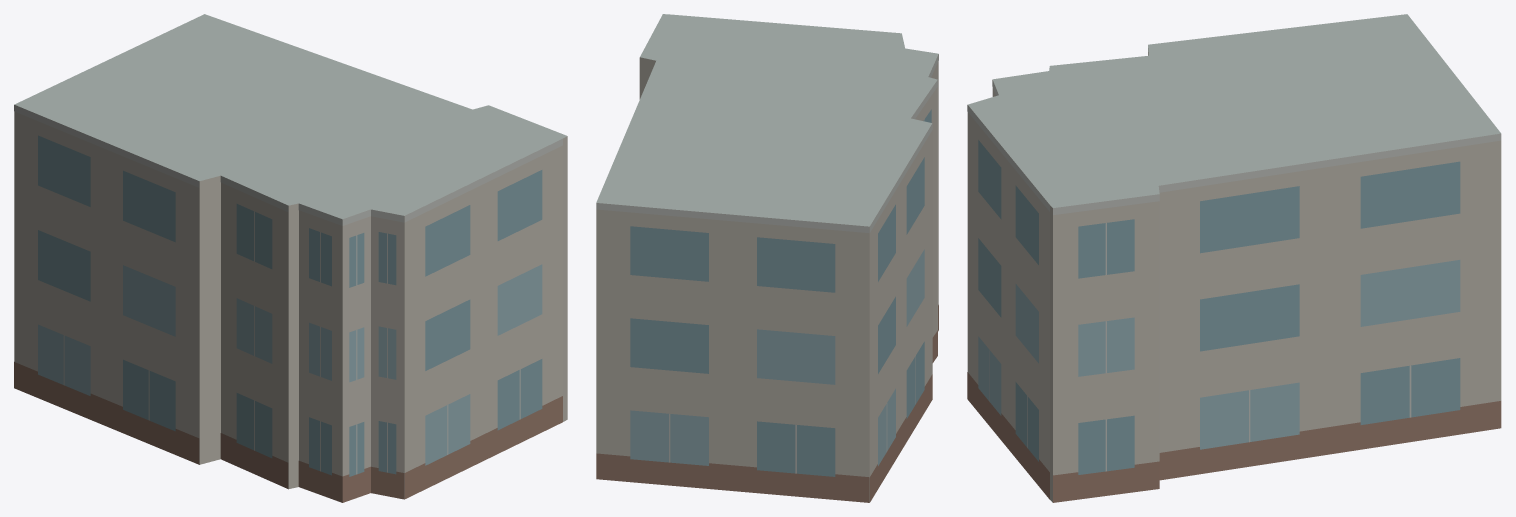
File: survey-upis-32675118.glb
3 renders of one model, left to right at view 1: azimuth 30°, elevation 25°; view 2: azimuth 150°, elevation 25°; view 3: azimuth 270°, elevation 25°, orthographic. The views are drawn at different scales.
Parts seen in each view (by area): view 1: survey-upis-32675118.tmp; view 2: survey-upis-32675118.tmp; view 3: survey-upis-32675118.tmp.
Boxes of the visible parts, bbox=[...] form: survey-upis-32675118.tmp: bbox=[14, 14, 567, 502]; survey-upis-32675118.tmp: bbox=[596, 14, 938, 502]; survey-upis-32675118.tmp: bbox=[967, 14, 1501, 502].
Bounding box in the file's own units: 14.42 × 10.2 × 16.75.
